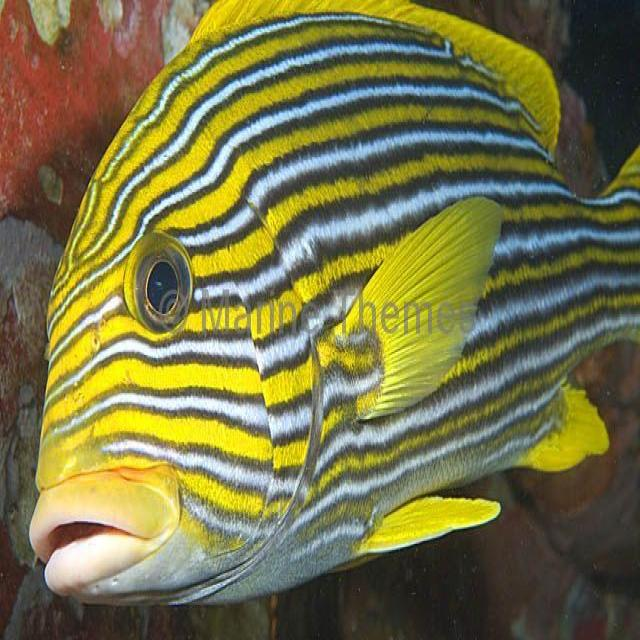RibbonedSweetlips: (27, 0, 640, 610)
